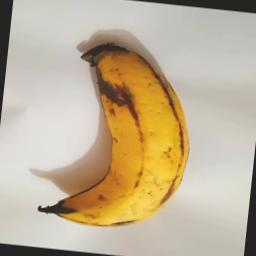Banana Unripe: (22, 34, 203, 236)
